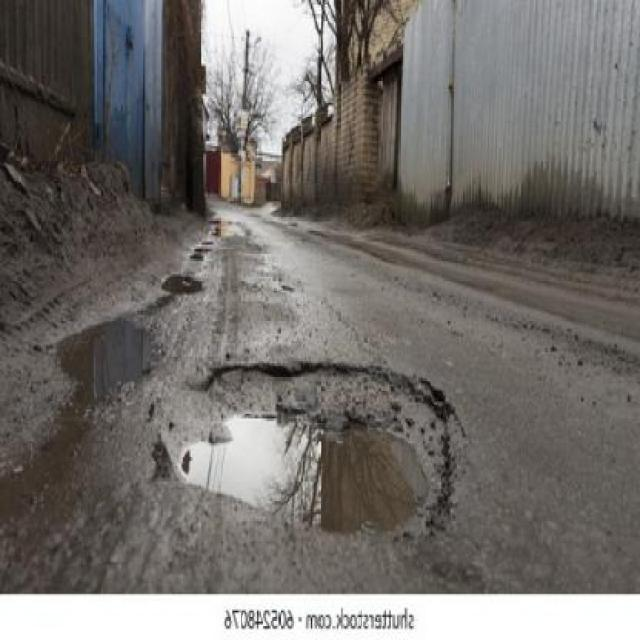Pothole: (148, 357, 468, 553)
